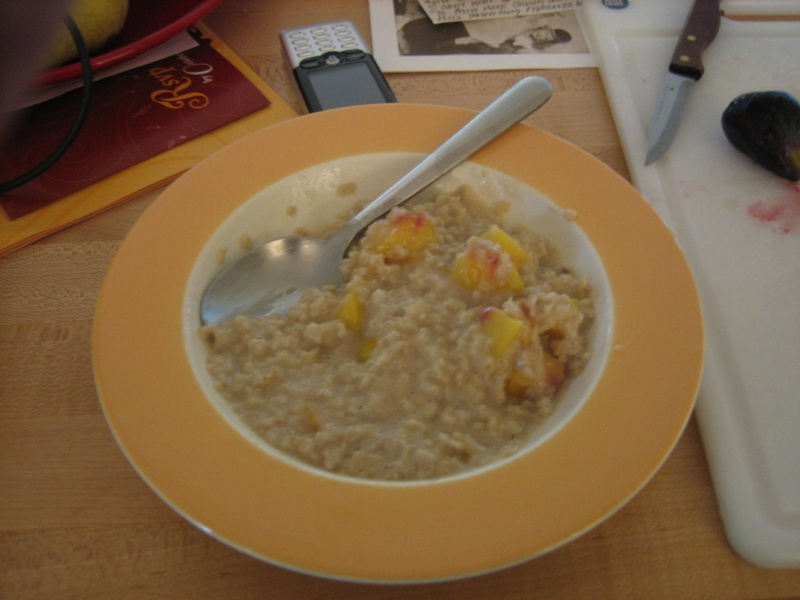knife: (645, 4, 721, 168)
